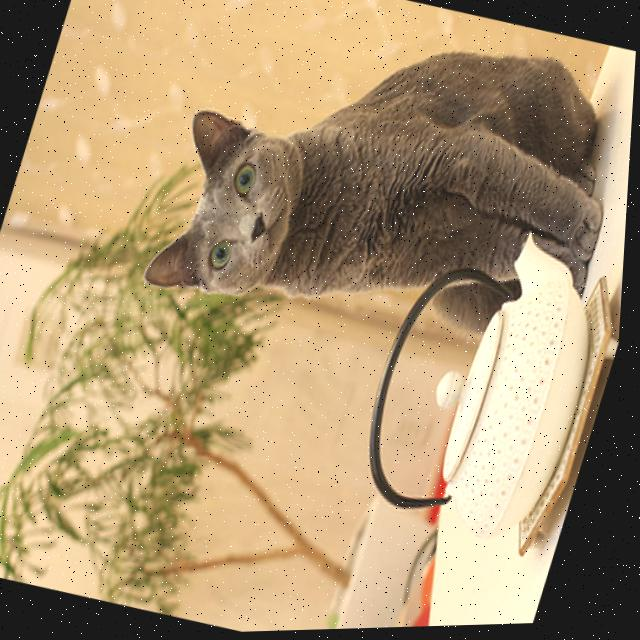Russian Blue: (128, 0, 640, 394)
